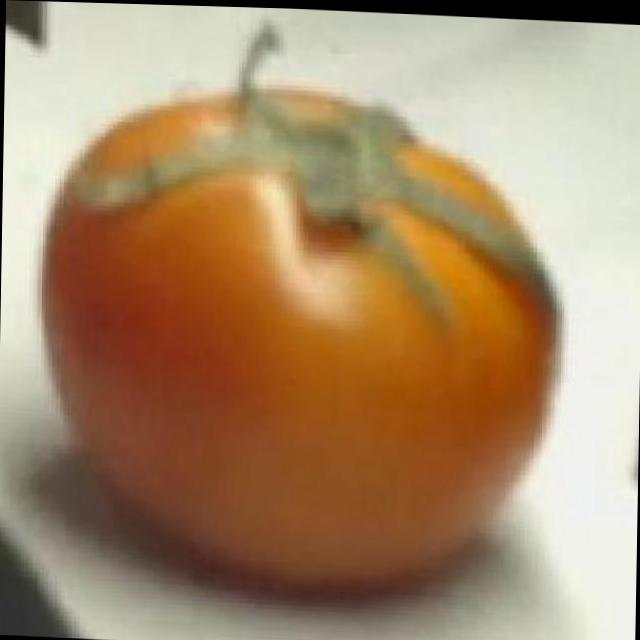tomato: (37, 76, 565, 609)
